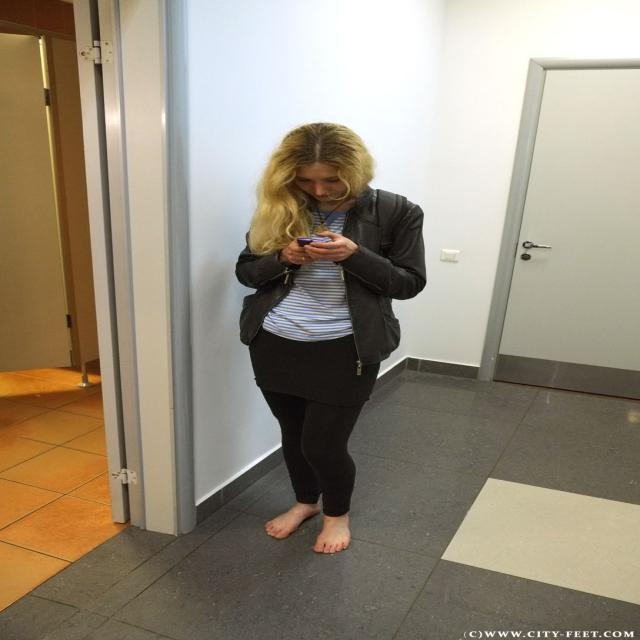Barefoots: (265, 501, 321, 538), (314, 512, 351, 554)
